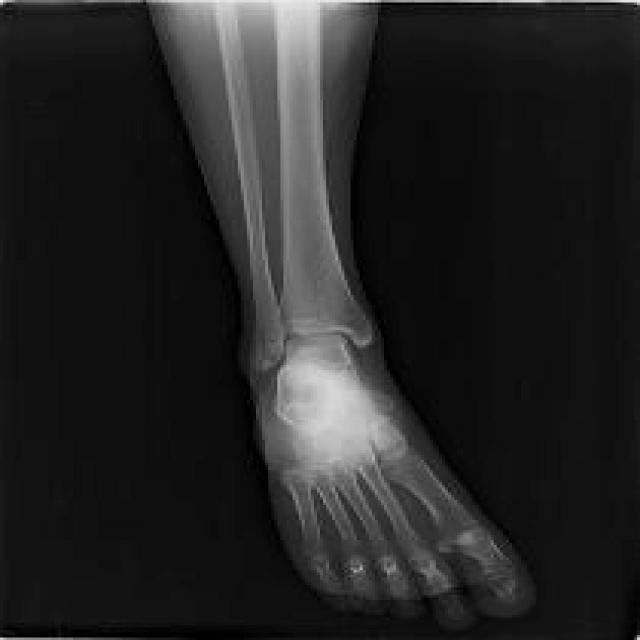normal: (275, 0, 517, 619), (219, 2, 284, 370)
